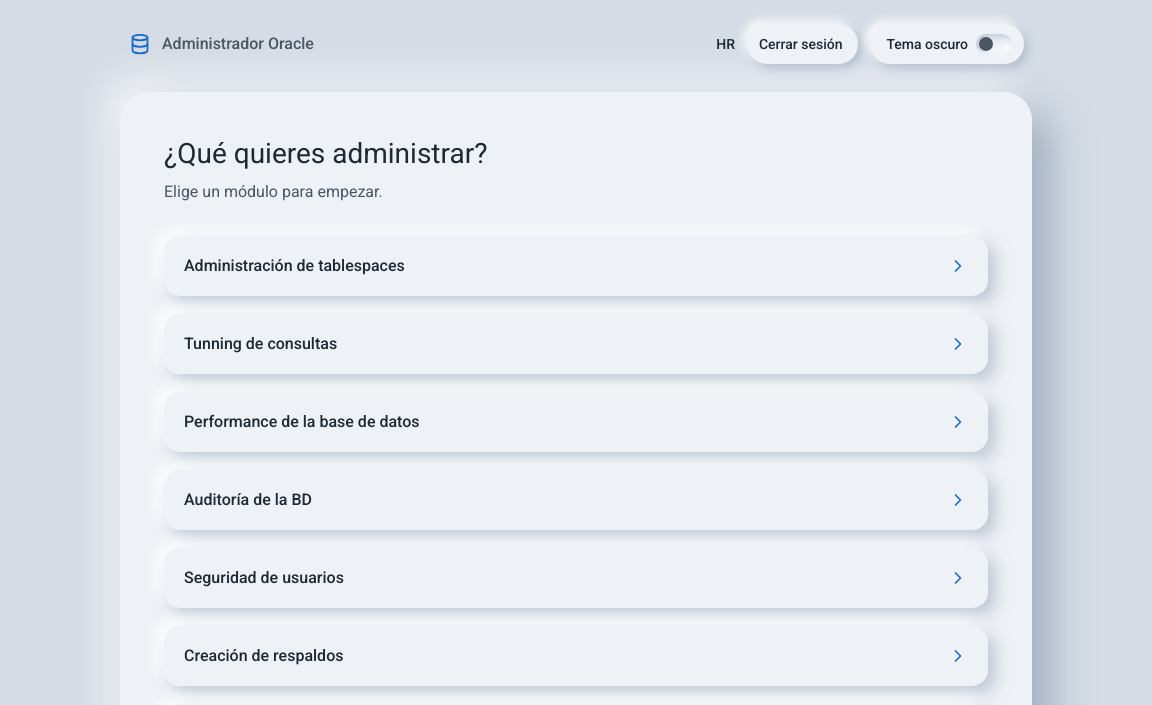
Test: navegación de una pantalla a la vez › desde el submenú «Volver» regresa al menú principal
The width and height of the screenshot is (1152, 705).
Click the button "Creación de respaldos".
click(264, 656)  # box [164,626,988,686]
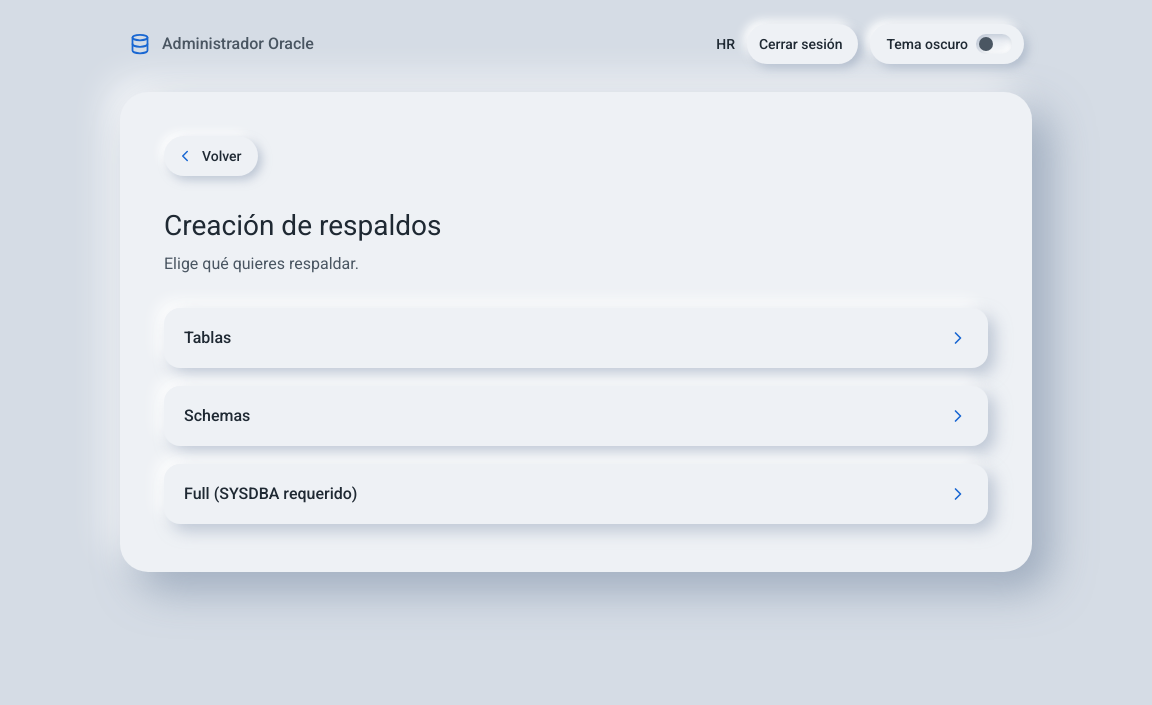
Click the button "Volver".
click(211, 156)  # box [164,136,258,176]
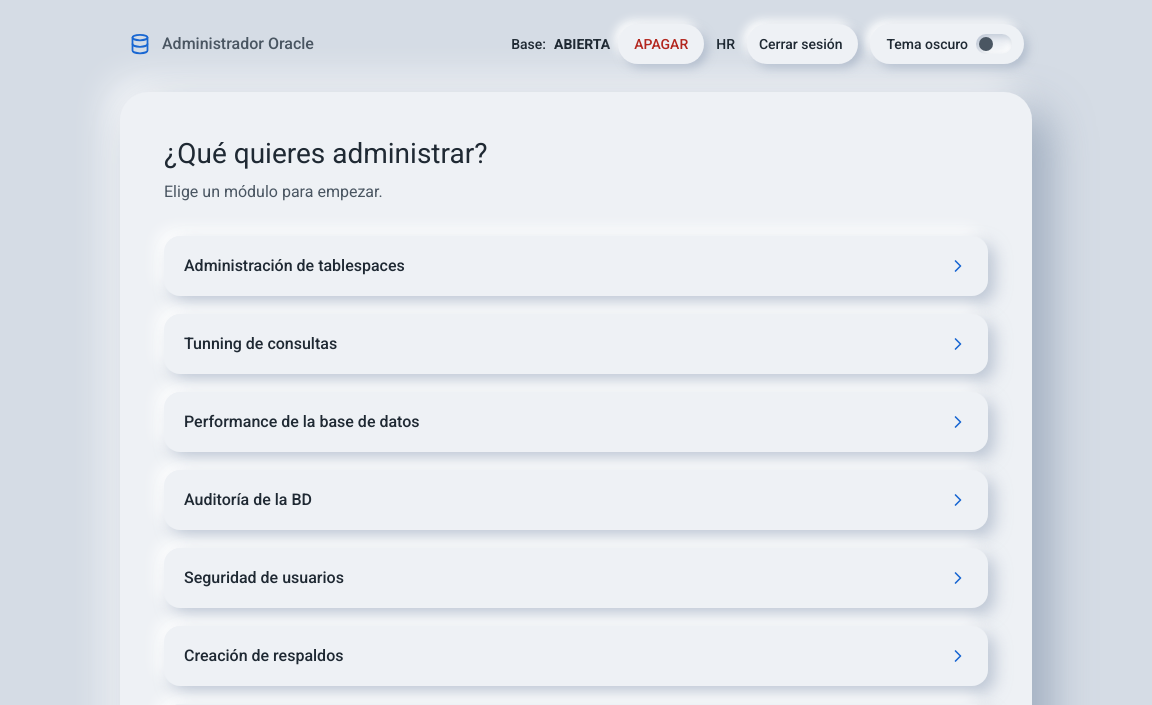
Check: the button "Creación de respaldos" is shown, box [164,626,988,686]
Check: the button "Tablas" is gone
Check: the button "Volver" is gone
